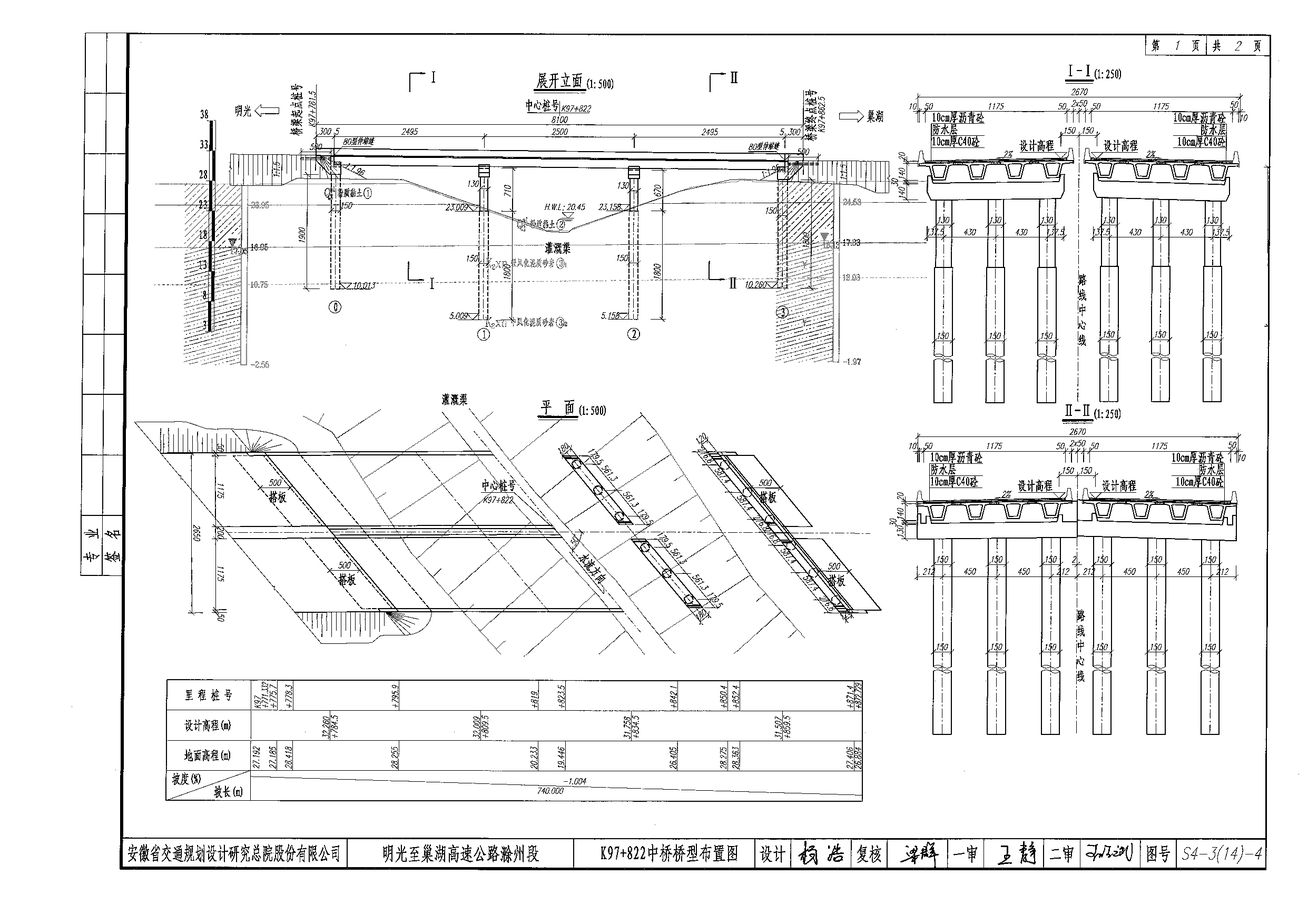A: (150, 58, 896, 388)
